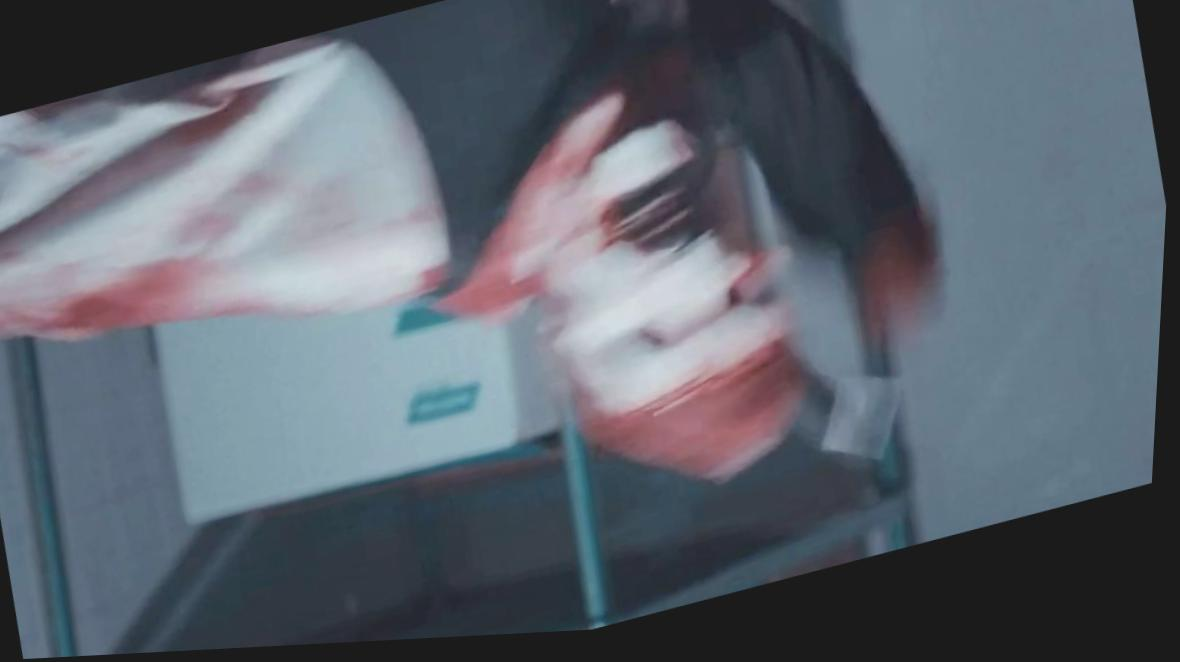Fire: (0, 0, 966, 488)
